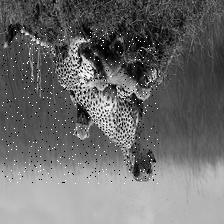Cheetha: (1, 27, 158, 184)
